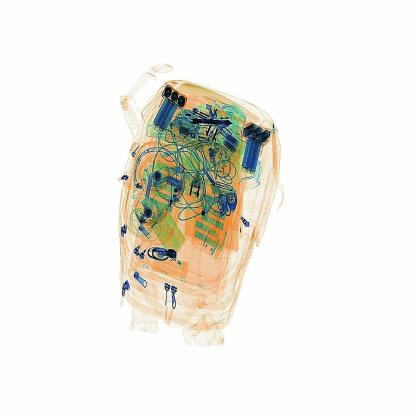knife: (186, 109, 235, 134)
